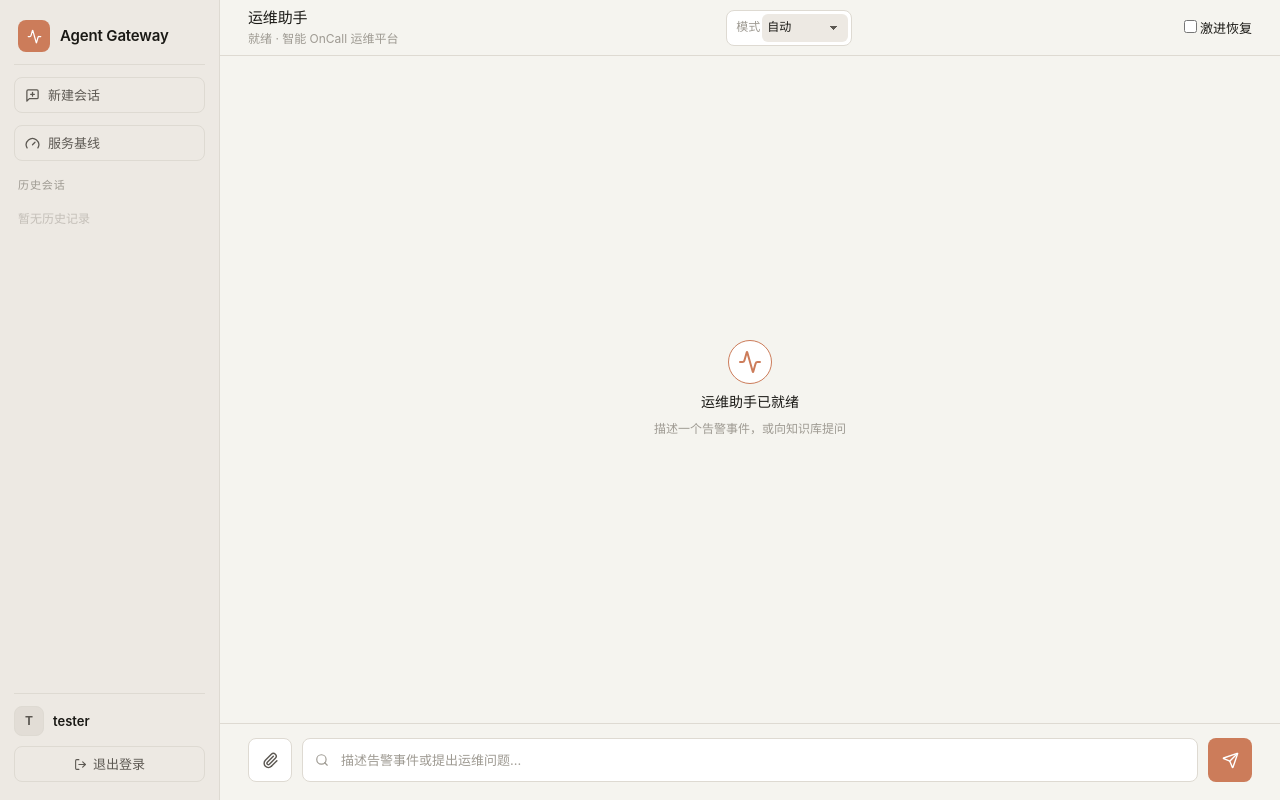
Test: App › shows a checkpoint_resume banner when the harness reports a resumed run
In the field named "消息": (750, 760) [302,738,1198,782], type "resume me"
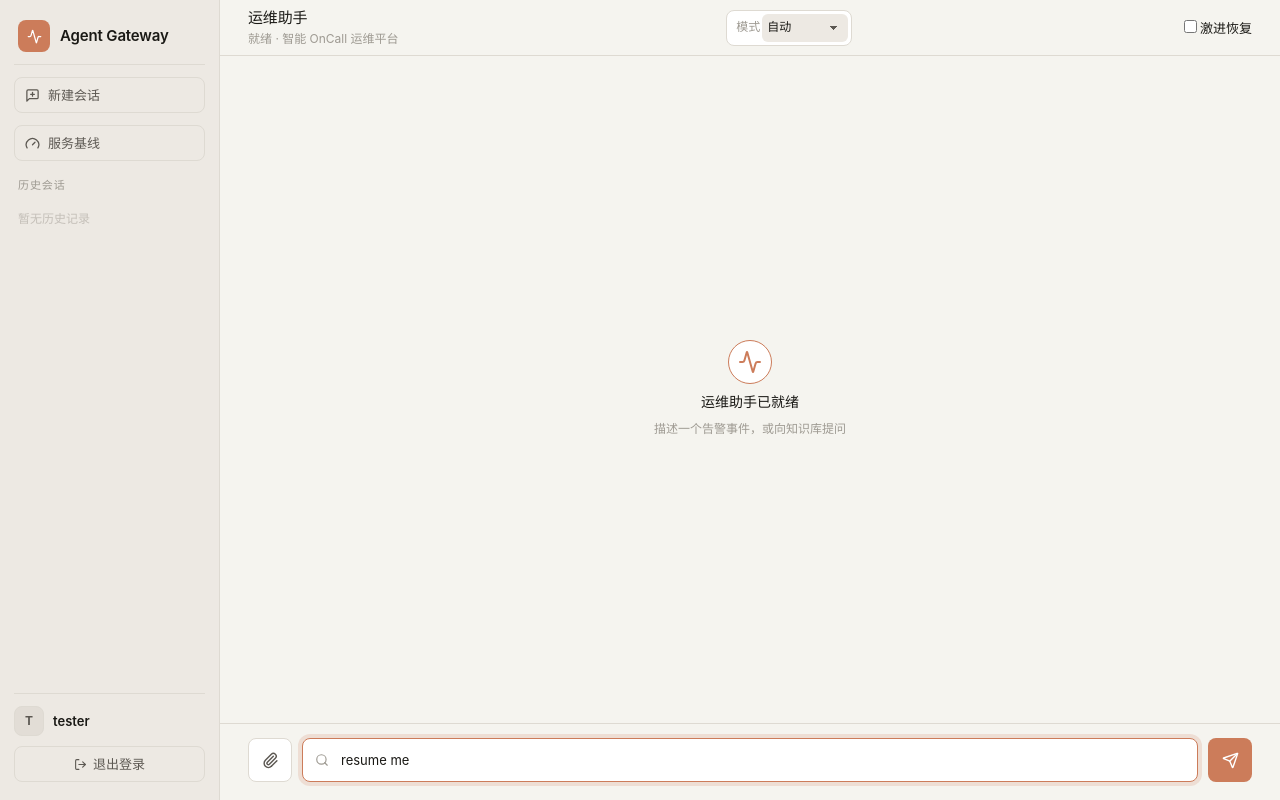
Click the button named "发送": (1230, 760) [1208,738,1252,782]
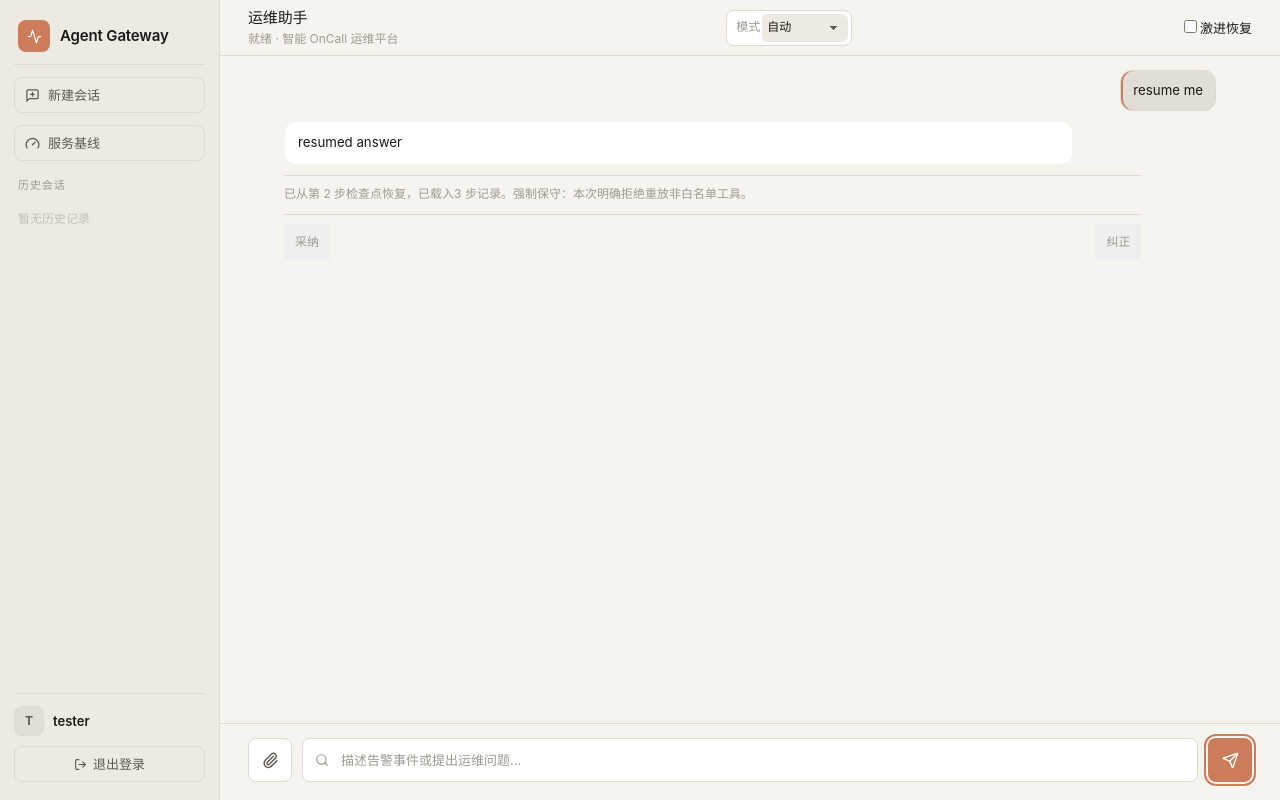
Check: the text "激进恢复" is shown, box [1200,20,1252,36]
Check: the text "已从第 2 步检查点恢复，已载入3 步记录。强制保守：本次明确拒绝重放非白名单工具。" is shown, box [284,175,1141,204]
